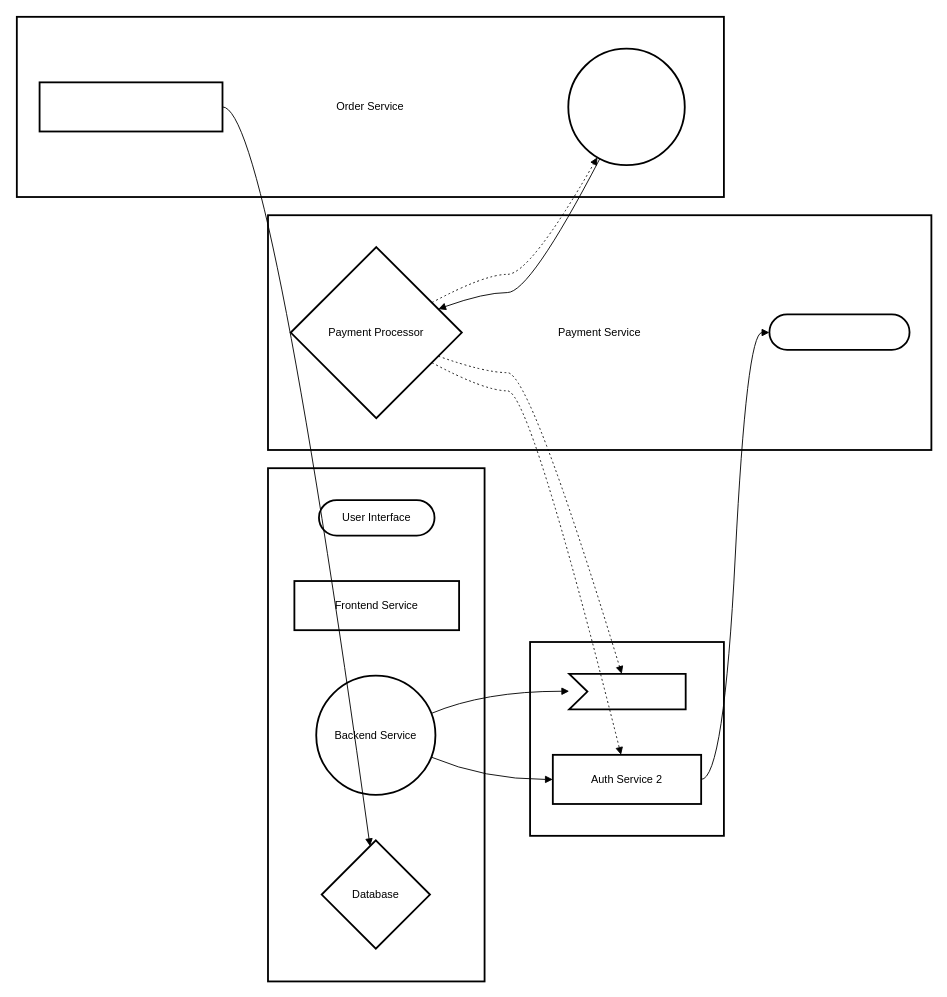
Image size: 947x997. Some labels were removed from this diagram. The box of each missing label's shape, as (x1, y1, x2, y2) in pixels:
Auth Service 1: (568, 672, 686, 710)
Authentication Service: (529, 641, 724, 836)
Notification Service: (38, 81, 223, 132)
Order Processor: (567, 47, 685, 166)
Payment Gateway: (768, 313, 910, 350)
